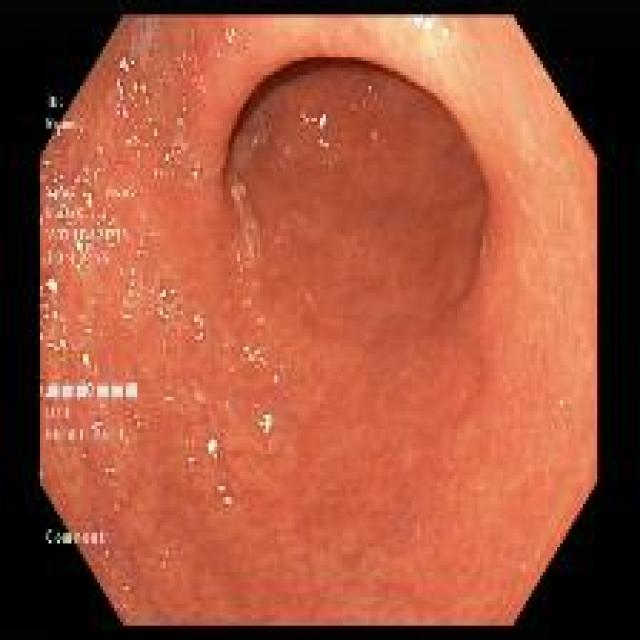ulcerative-colitis: (40, 16, 598, 624)
